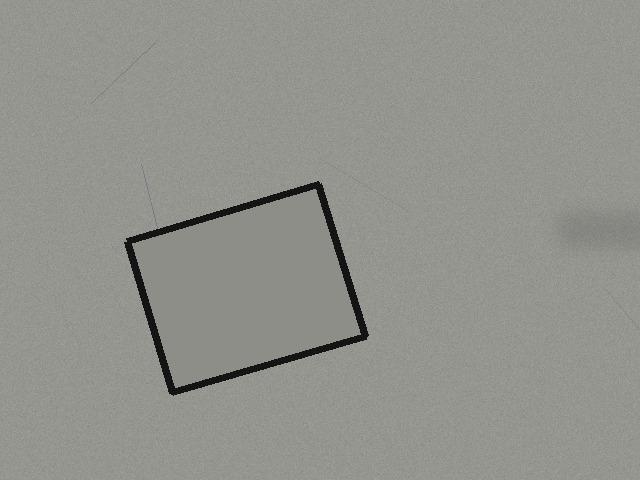parking_area: (127, 184, 365, 392)
